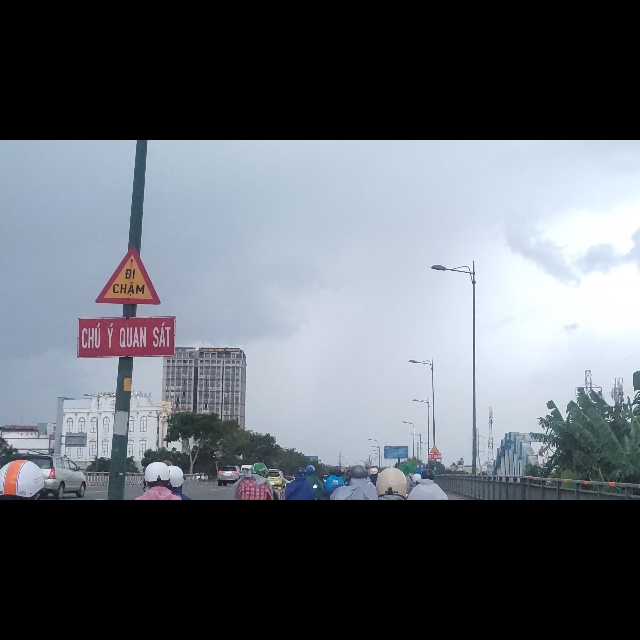bien_nguy_hiem: (93, 187, 161, 293)
